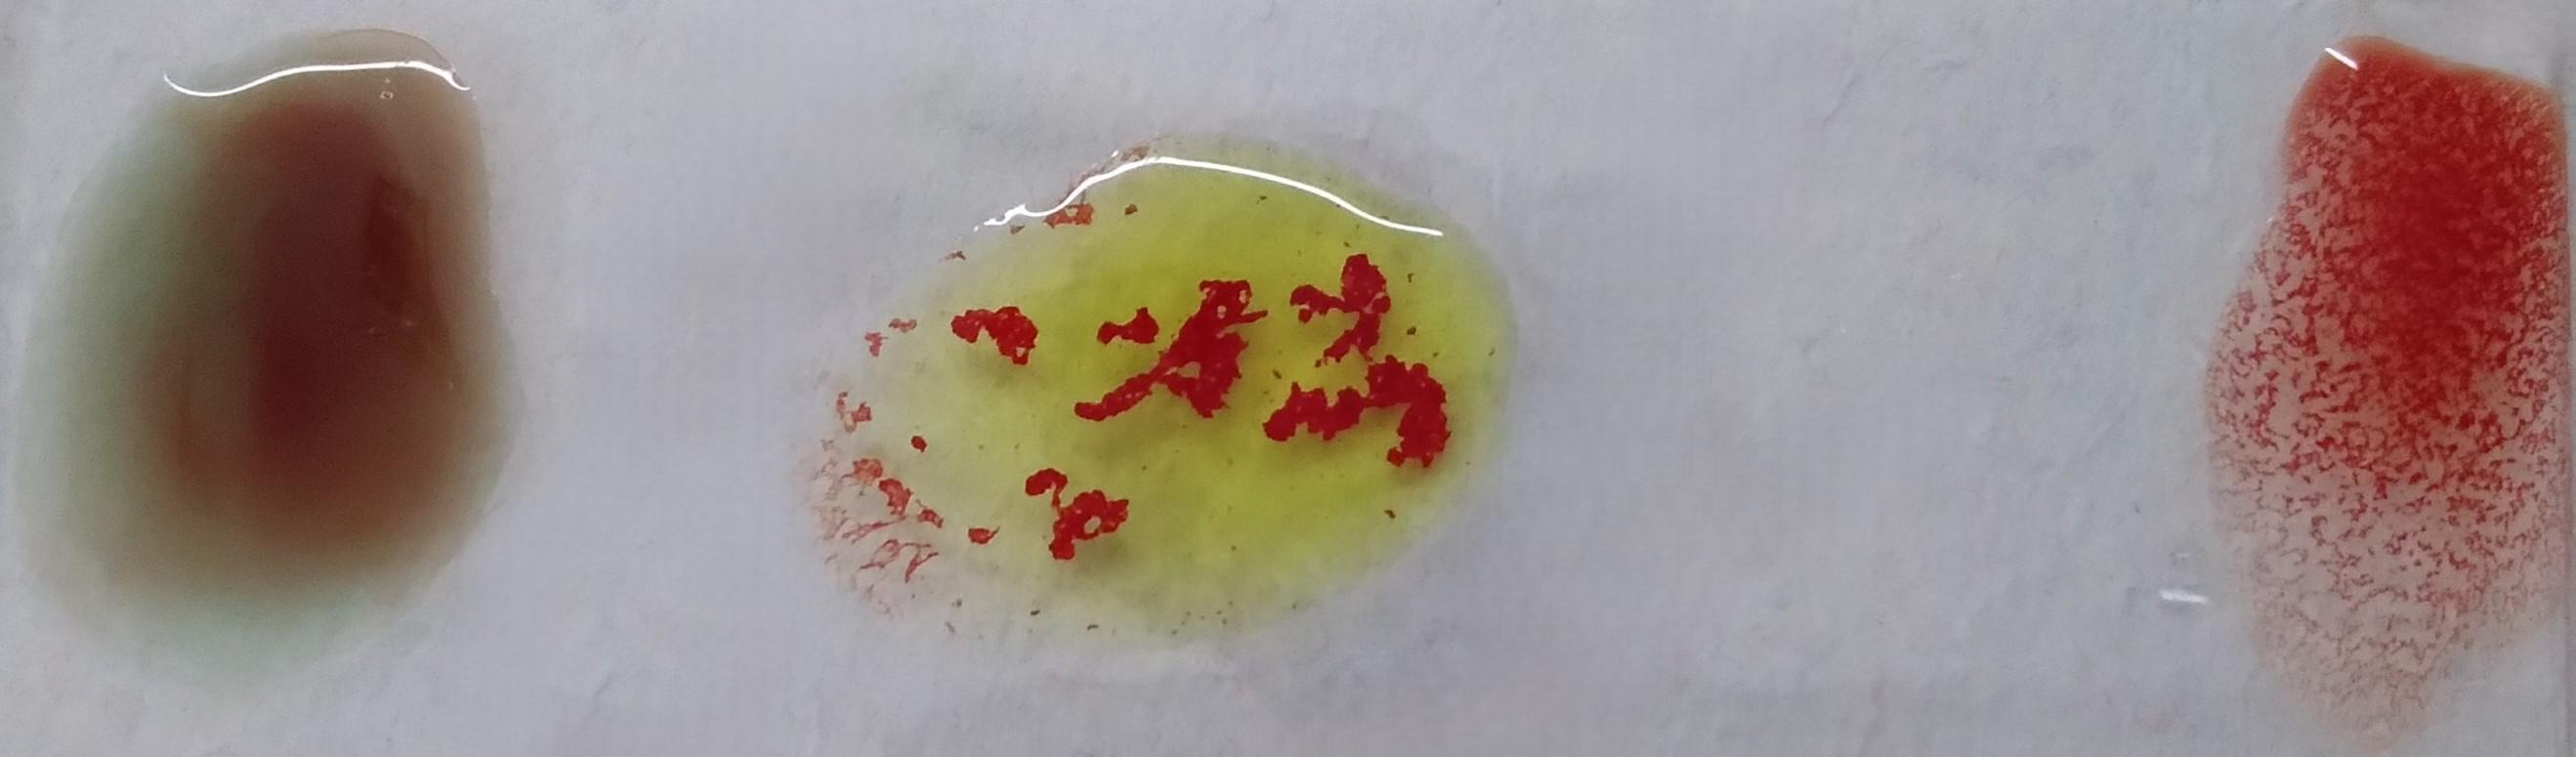B: (866, 149, 1472, 624)
D: (2234, 44, 2576, 729)
